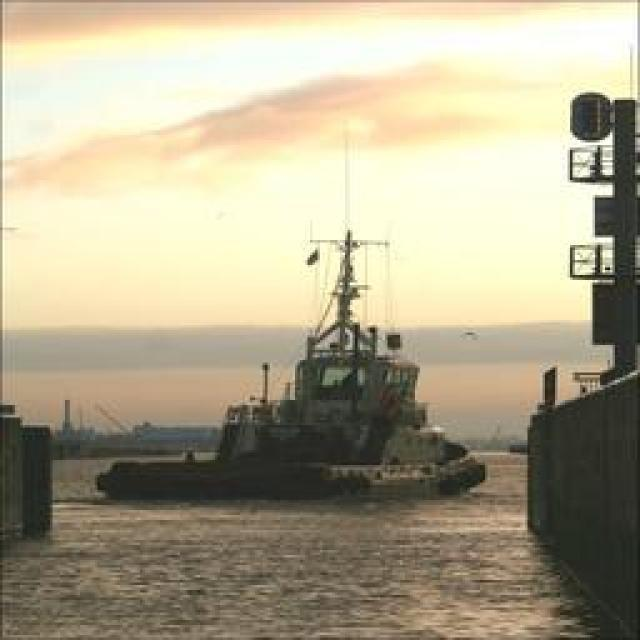ship2: (95, 151, 486, 503)
